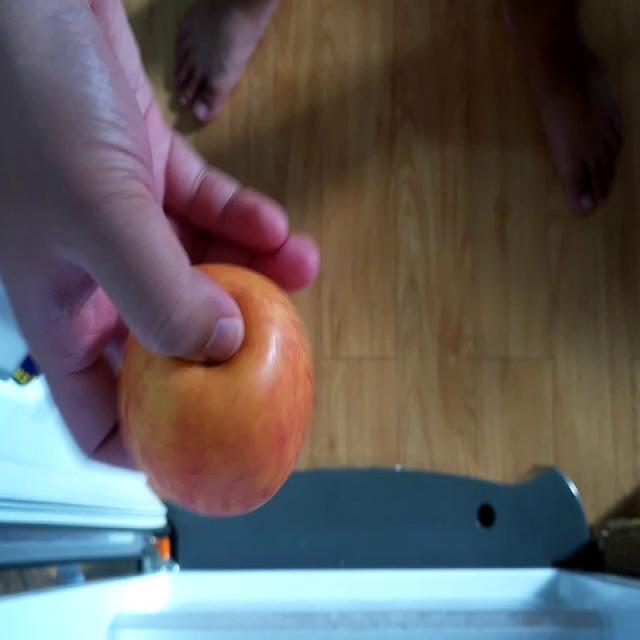apple: (126, 262, 313, 519)
